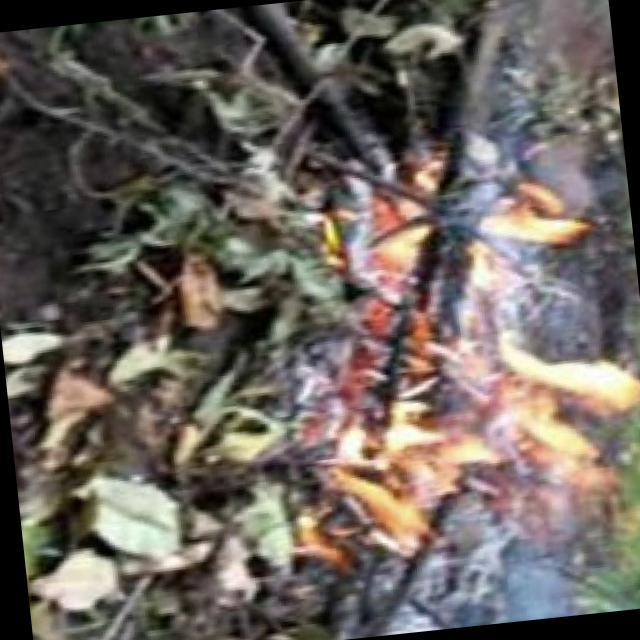Fire: (283, 149, 640, 568)
